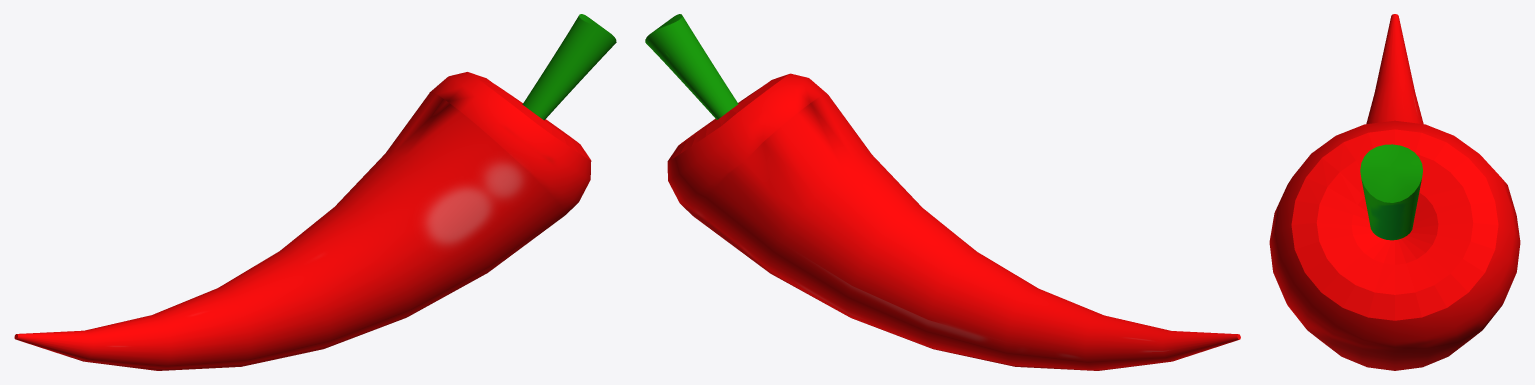
File: Pepper4.fbx
The picture shows the model from 3 angles, left to right: view 1: azimuth 30°, elevation 25°; view 2: azimuth 150°, elevation 25°; view 3: azimuth 270°, elevation 25°; orthographic projection. The views are drawn at different scales.
Visible parts, largest first — view 1: Cone001, Cone002; view 2: Cone001, Cone002; view 3: Cone001, Cone002.
Boxes of the visible parts, x1,y1,x2,y2 form: Cone001: (14, 72, 591, 370); Cone002: (522, 14, 616, 120); Cone001: (667, 73, 1240, 370); Cone002: (645, 14, 738, 119); Cone001: (1269, 14, 1520, 370); Cone002: (1360, 144, 1422, 240).
Bounding box in the file's own units: 60.48 × 25.42 × 16.42.
